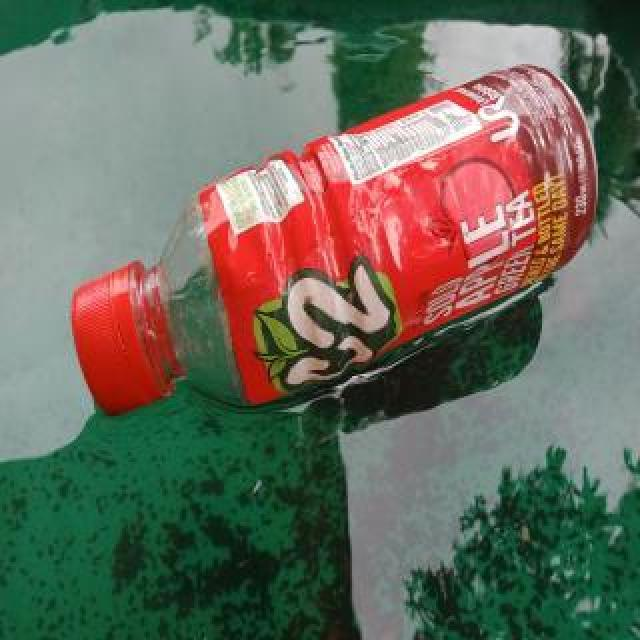bottle: (69, 59, 605, 411)
